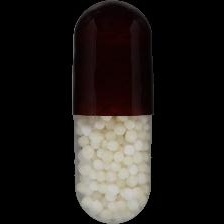0185-5254: (0, 0, 224, 224)
